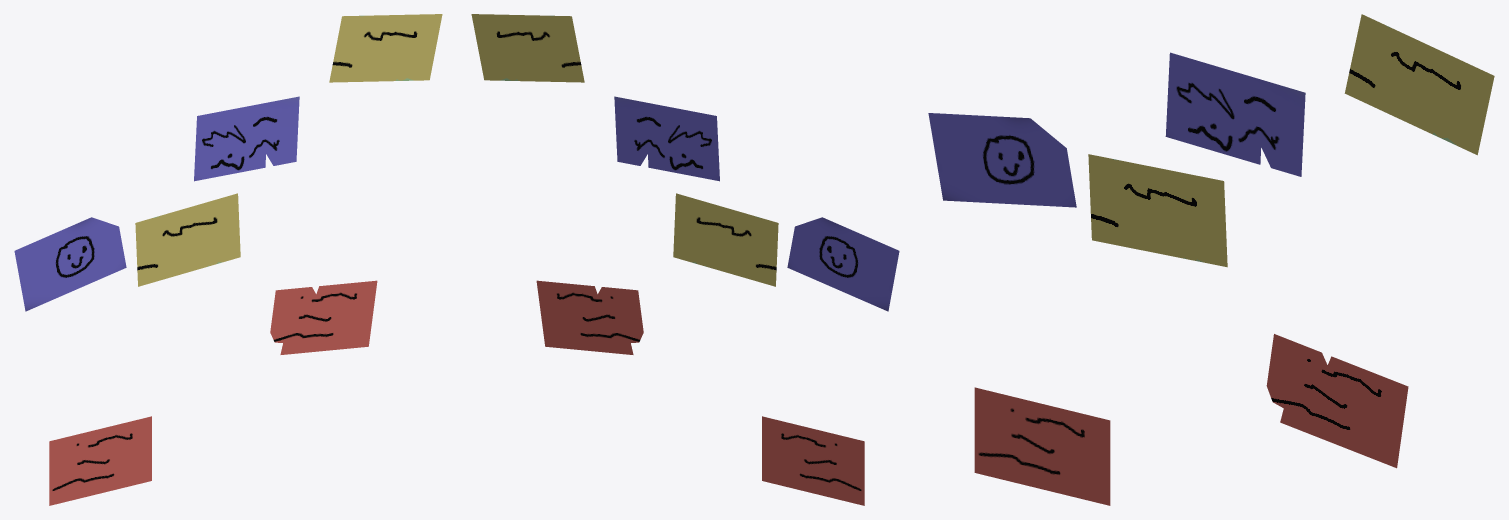
File: PostIt_GEO.fbx
3 renders of one model, left to right at view 1: azimuth 30°, elevation 25°; view 2: azimuth 150°, elevation 25°; view 3: azimuth 330°, elevation 25°, orthographic. The views are drawn at different scales.
Visible parts, largest first — view 1: Plane; view 2: Plane; view 3: Plane.
Boxes of the visible parts, x1,y1,x2,y2 form: Plane: (14,14,442,505); Plane: (471,14,899,505); Plane: (928,14,1494,505).
Size of the model in its own units: 833 by 0.000106 by 778.
Materials: 1 (1 with a texture image).
